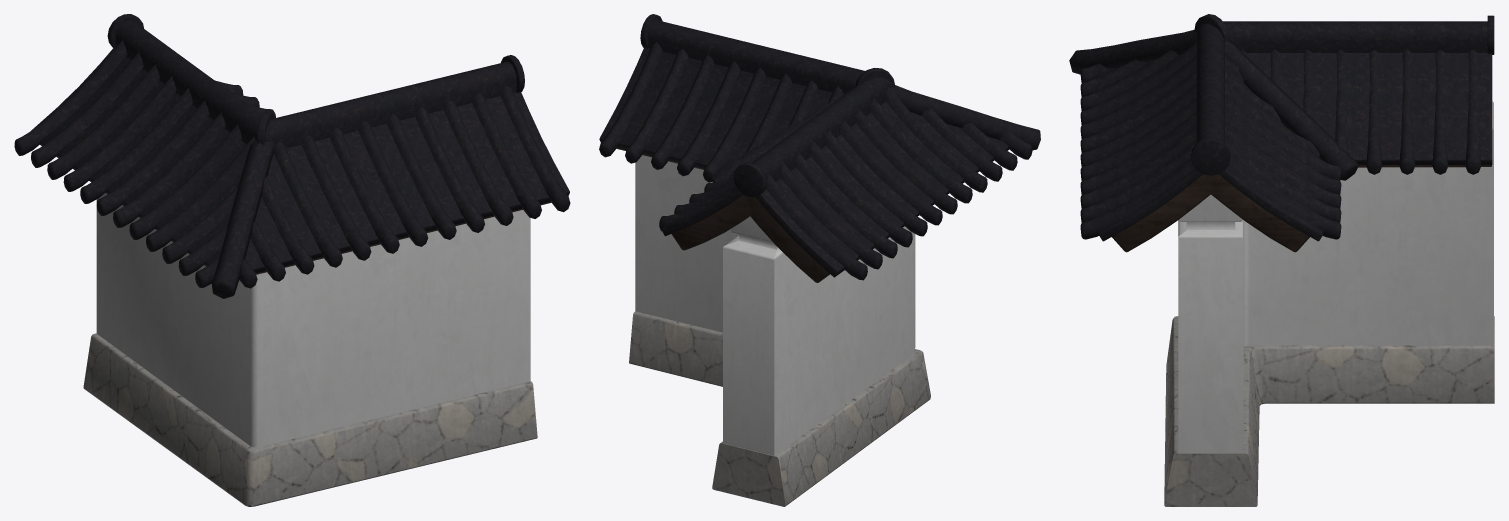
The model's file is Fence2-Corneer.fbx.
3 views of the same model, side by side, from view 1: azimuth 30°, elevation 25°; view 2: azimuth 150°, elevation 25°; view 3: azimuth 270°, elevation 25° (orthographic). The views are drawn at different scales.
Visible parts, largest first — view 1: Fence2-corner; view 2: Fence2-corner; view 3: Fence2-corner.
Part boxes in pixels (x1=…): Fence2-corner: x1=14, y1=14, x2=570, y2=506; Fence2-corner: x1=599, y1=14, x2=1040, y2=506; Fence2-corner: x1=1069, y1=14, x2=1494, y2=506.
Size of the model in its own units: 3.95 by 3.77 by 3.93.
